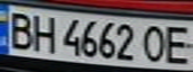2: (115, 20, 142, 62)
4: (57, 16, 84, 56)
6: (96, 19, 121, 61), (78, 17, 100, 59)
B: (3, 9, 39, 51)
E: (160, 21, 193, 65)
H: (27, 11, 60, 53)
O: (139, 22, 172, 64)
